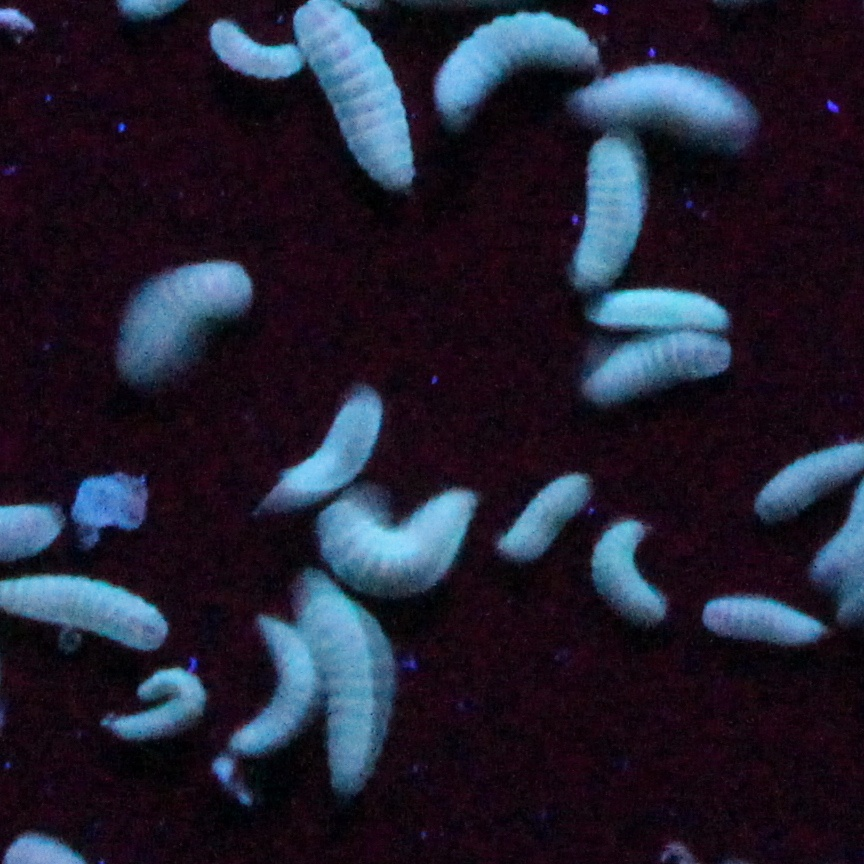larve: (311, 5, 429, 188), (434, 10, 597, 122), (309, 493, 483, 585), (109, 268, 260, 370), (243, 393, 374, 508), (306, 596, 385, 786), (223, 610, 306, 762), (566, 130, 646, 279), (580, 79, 751, 148), (586, 345, 740, 405), (489, 470, 586, 565), (751, 445, 860, 528), (106, 665, 209, 739), (589, 519, 660, 625), (706, 599, 834, 656), (211, 19, 306, 79), (594, 290, 731, 328)
